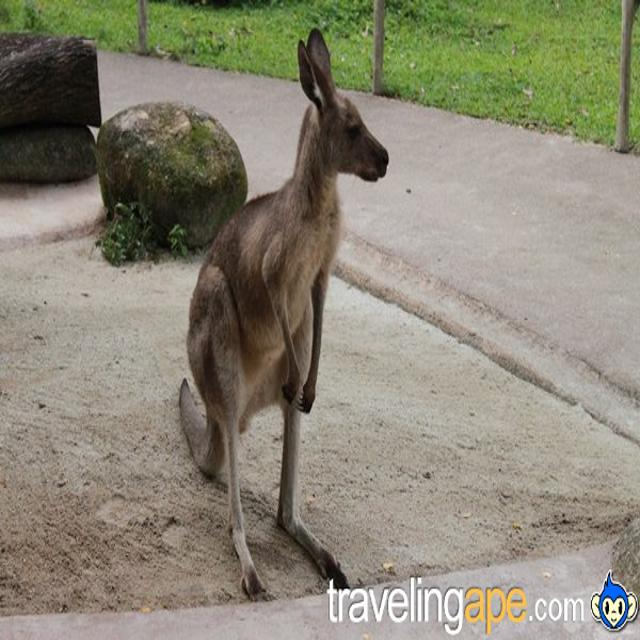kangaroo: (183, 30, 402, 591)
